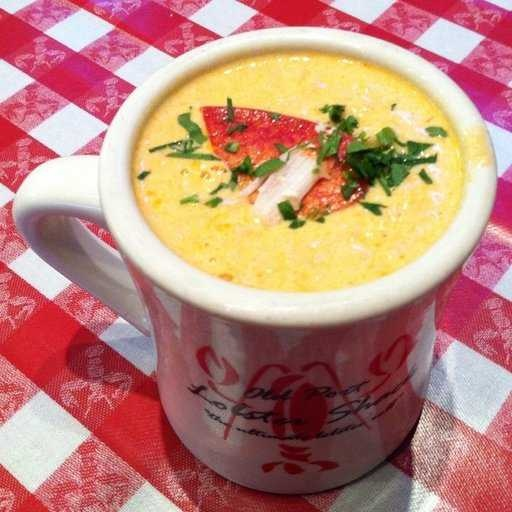soup: (86, 32, 472, 352)
